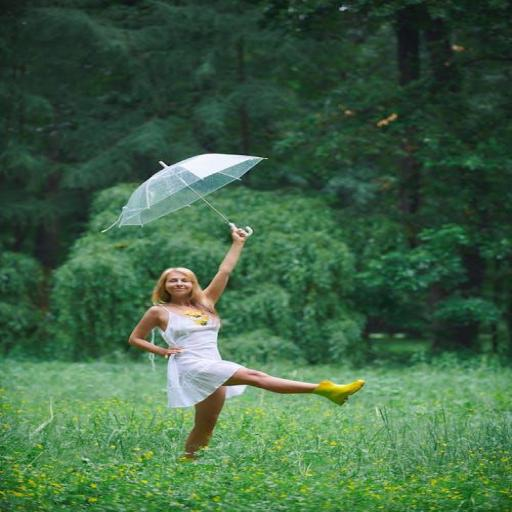guarda_chuva: (99, 152, 267, 238)
